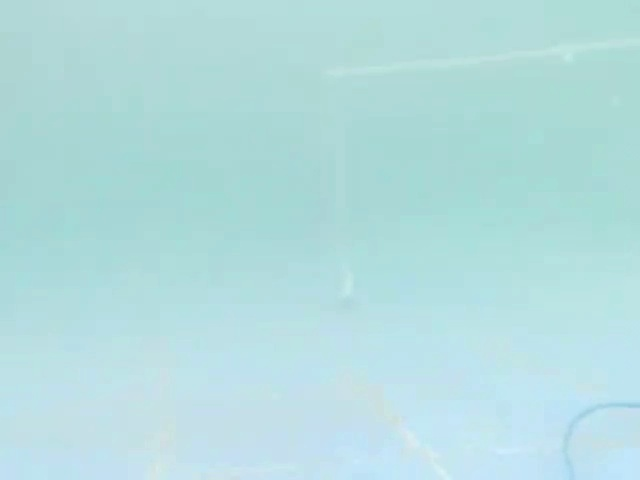gate: (299, 47, 640, 353)
